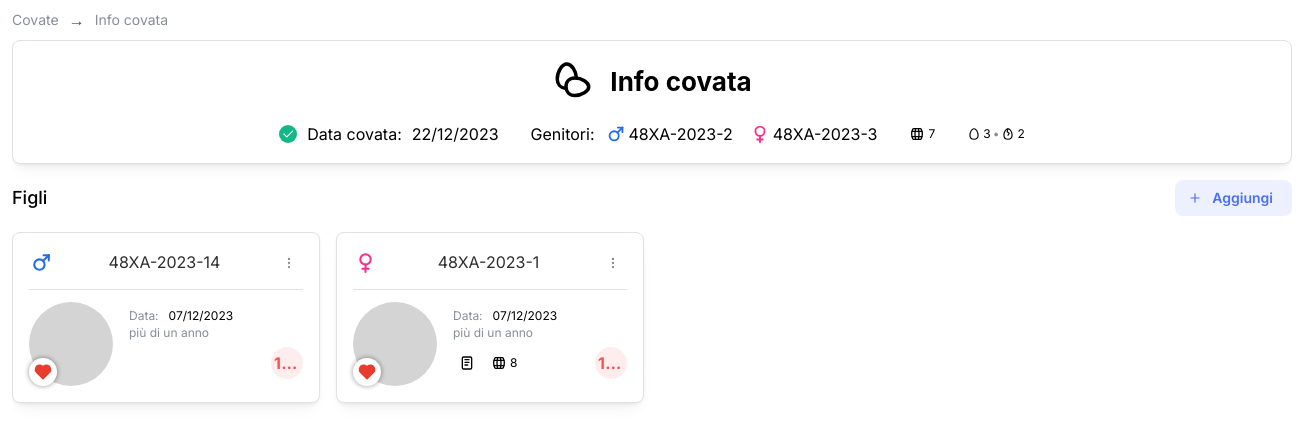
Scenario: InfoCovata › apre il modulo per aggiungere un nuovo soggetto
Click the button with test id "button-aggiungi-figlio".
click(1234, 198)  # box [1175,180,1292,216]
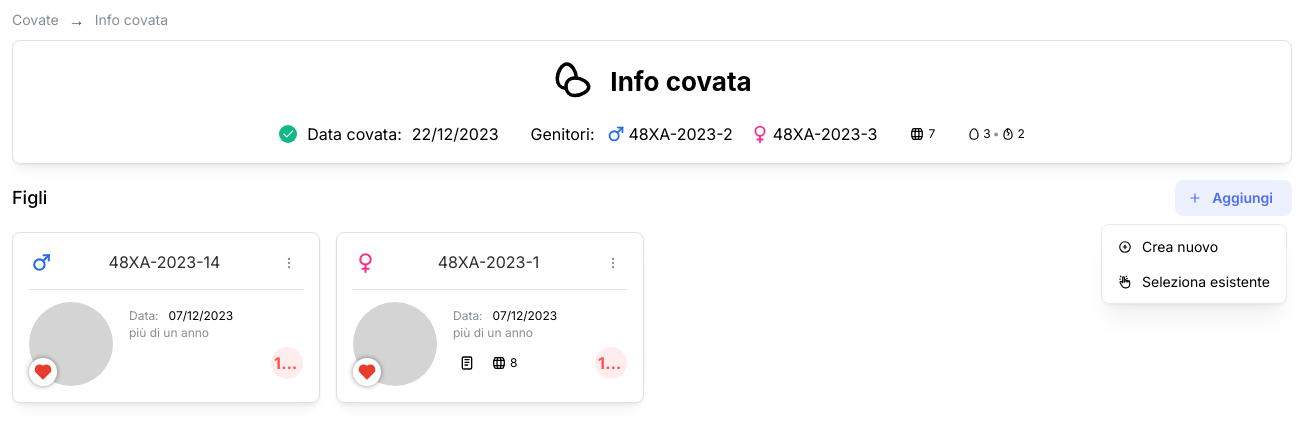
Expected: the text "Crea nuovo" is shown, [1142,237,1218,254]
